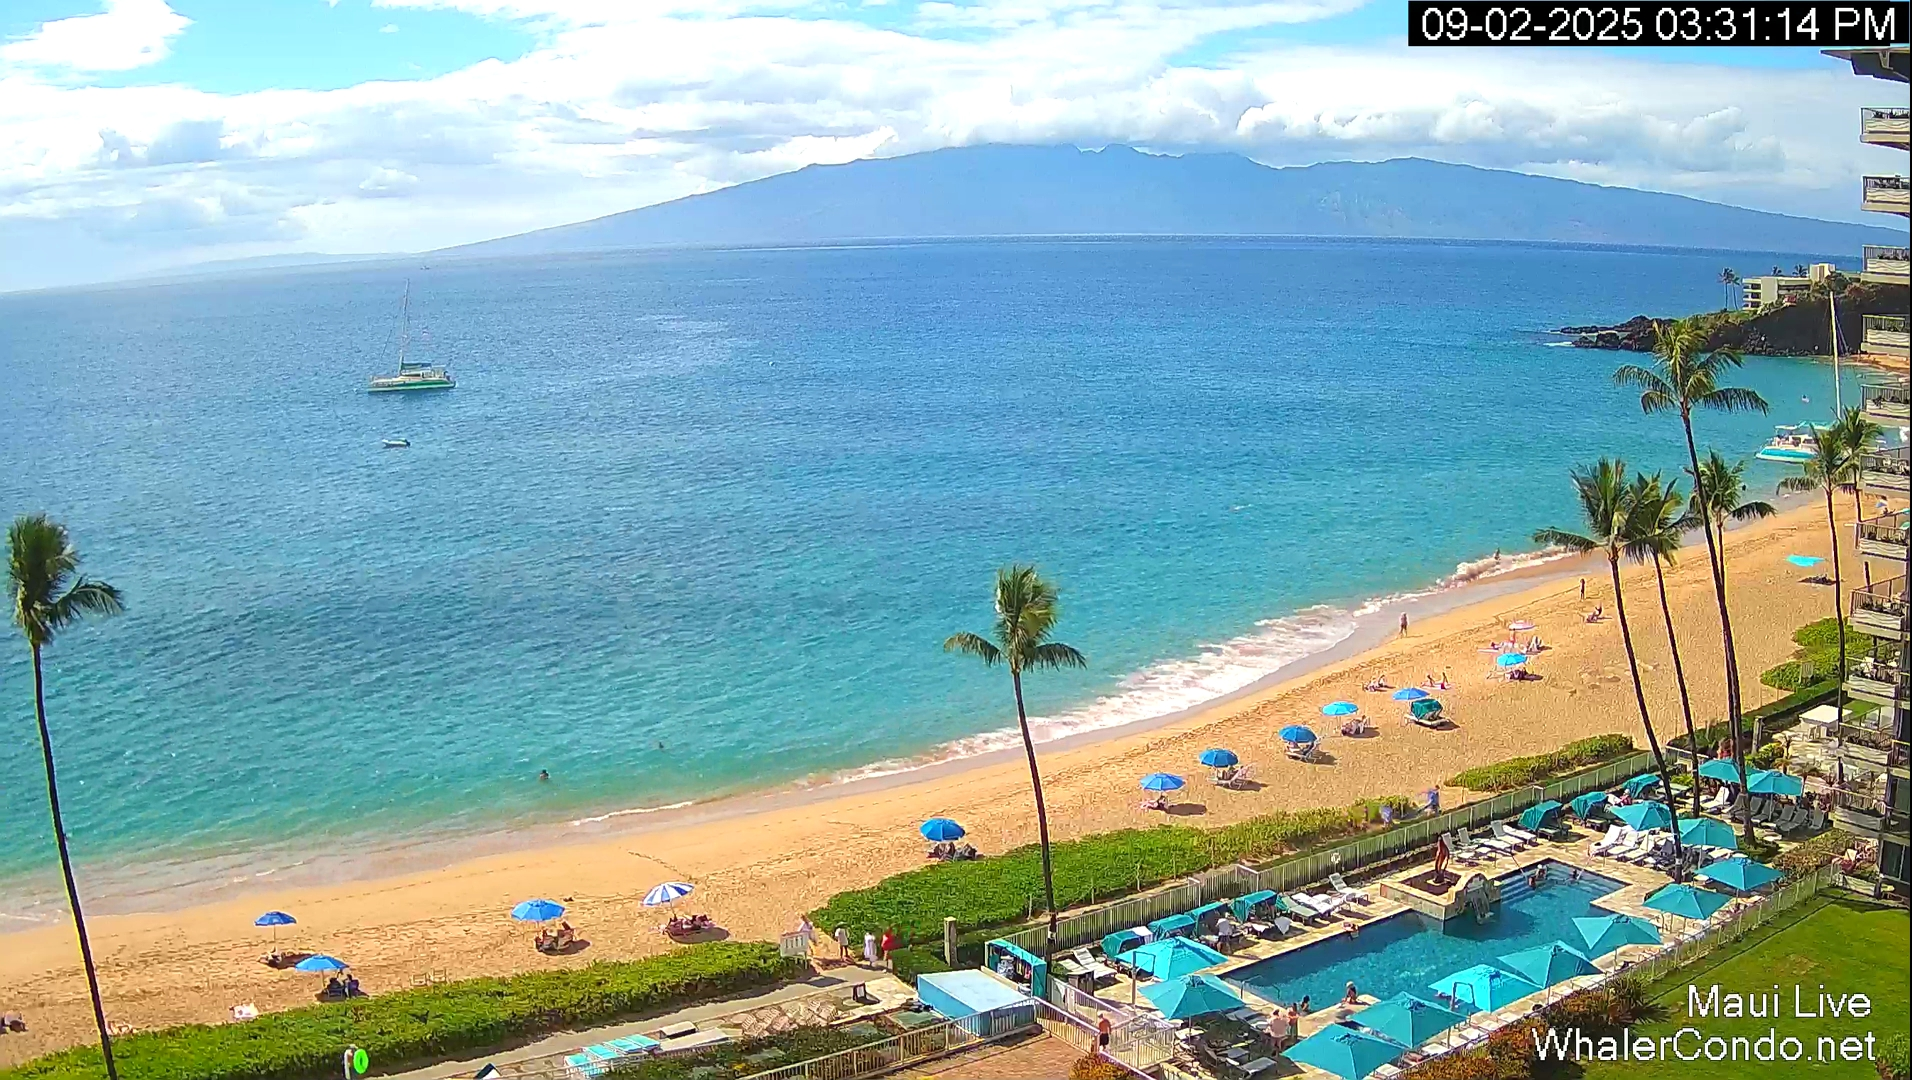boat: (366, 278, 457, 394), (366, 357, 457, 393), (1755, 420, 1824, 463), (666, 914, 731, 944)
person: (1268, 1009, 1289, 1055), (345, 974, 370, 999), (834, 923, 850, 961), (1215, 915, 1231, 953), (1097, 1012, 1111, 1053), (1534, 1024, 1548, 1060), (1553, 1024, 1569, 1051), (881, 928, 894, 961), (1287, 1005, 1299, 1039), (863, 930, 876, 961), (1397, 612, 1409, 638), (1875, 495, 1889, 517), (1345, 981, 1357, 1004), (1300, 995, 1311, 1014), (1579, 578, 1586, 601), (539, 769, 550, 781), (1531, 635, 1538, 640)
